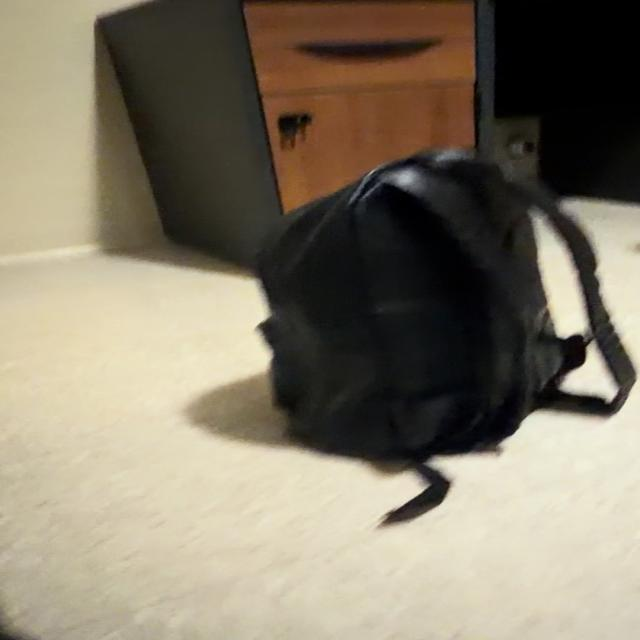backpack: (257, 151, 635, 523)
